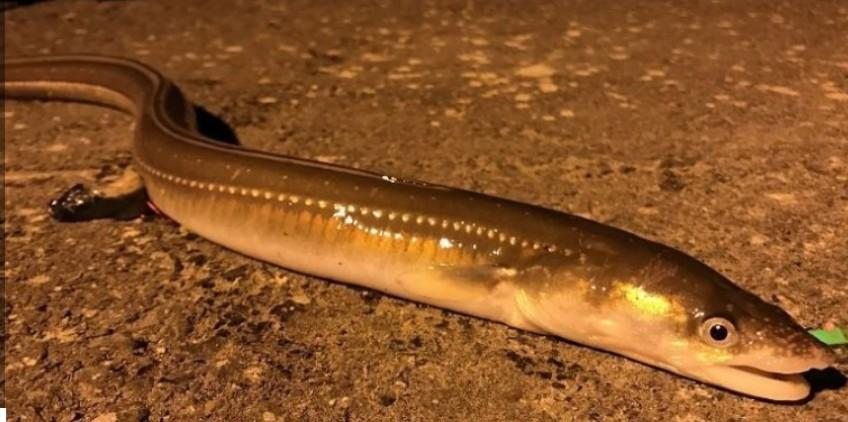fish: (5, 56, 838, 401)
